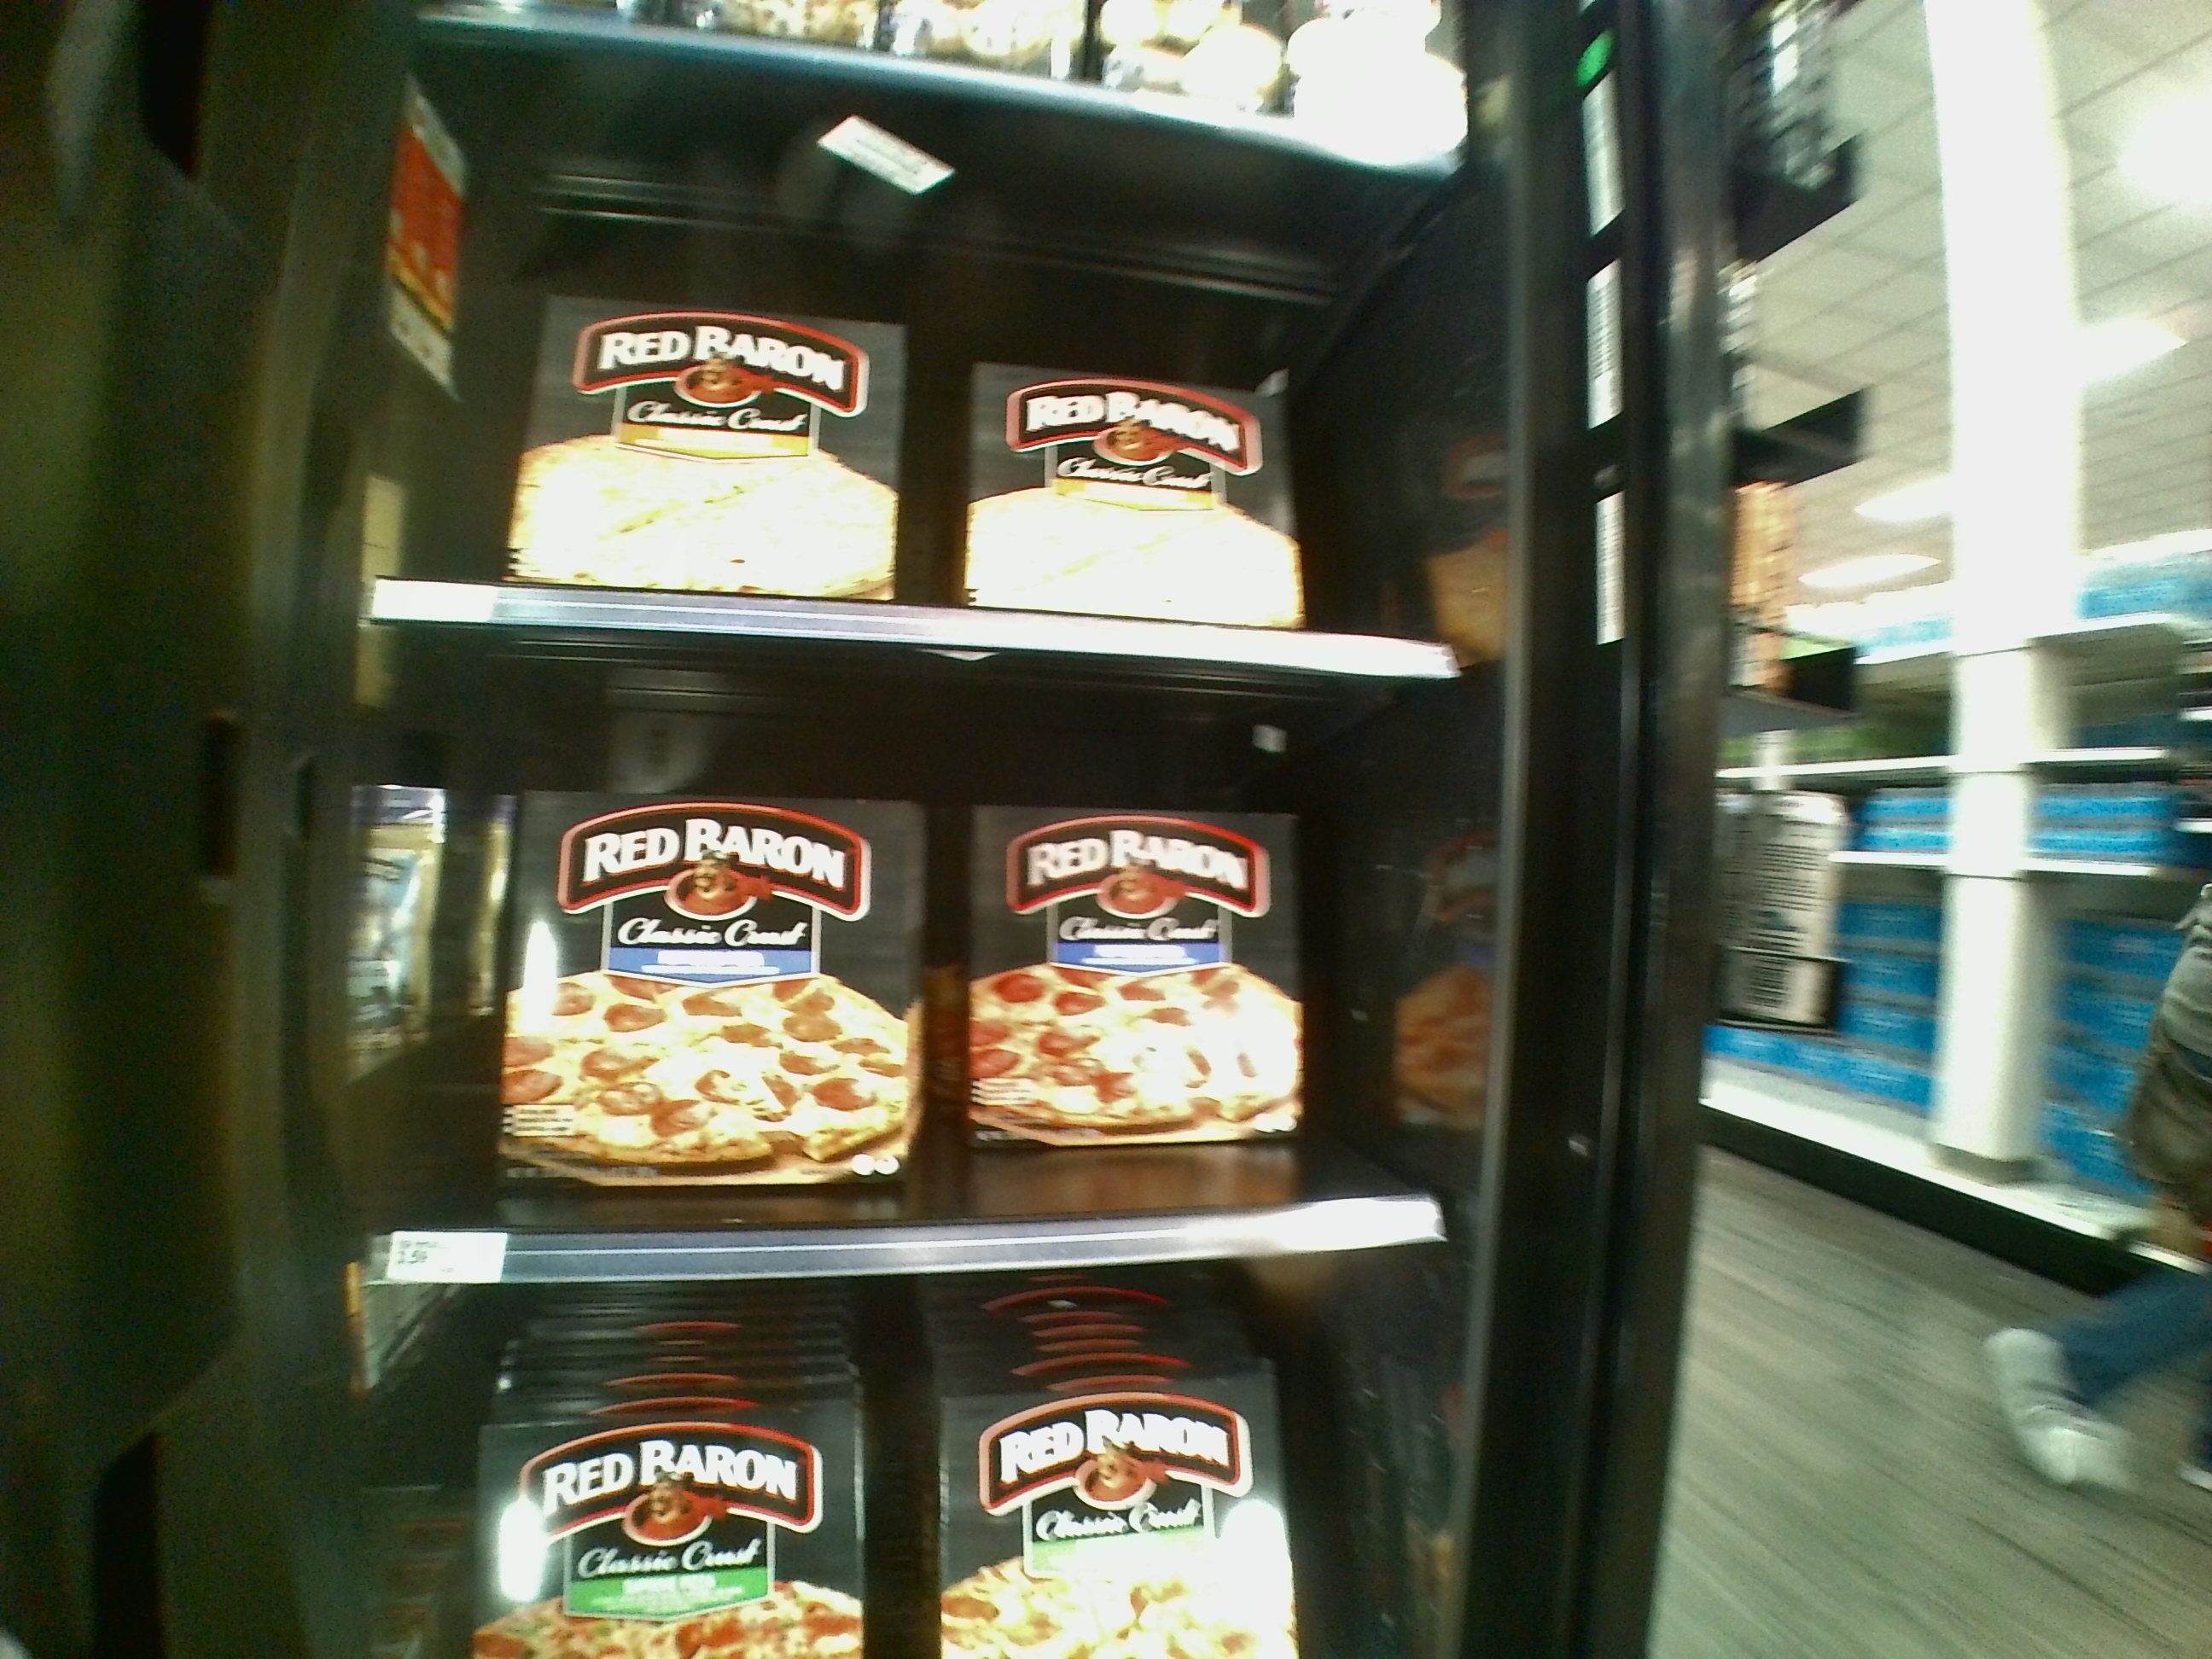shelf: (364, 645, 1467, 1277), (388, 120, 1468, 653)
